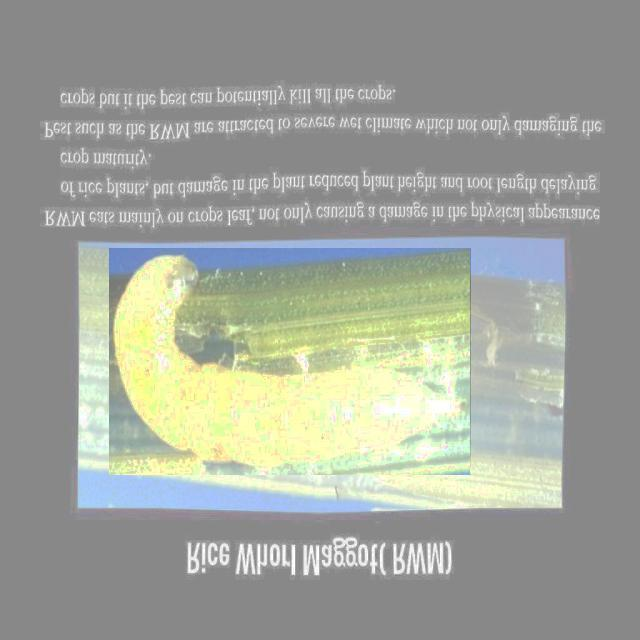whorl-maggot: (110, 248, 472, 475)
